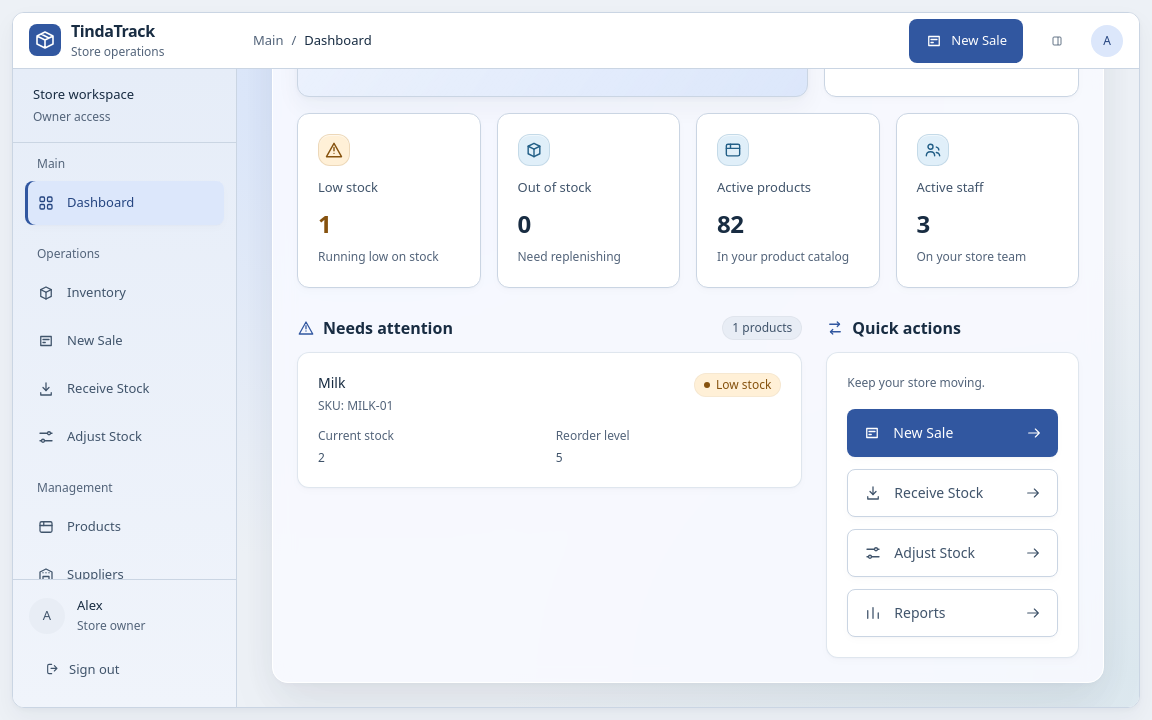
Test: preserves dashboard data and quick-action access for OWNER
(page scrolled)
Expected: the element "Active products" shows "82", [717,207,743,240]
What coordinates should you click on to do the following:
click the button with aria-label "View stock details for Milk"
I would click on:
 (370, 406)
Its box is [298,353,801,487].
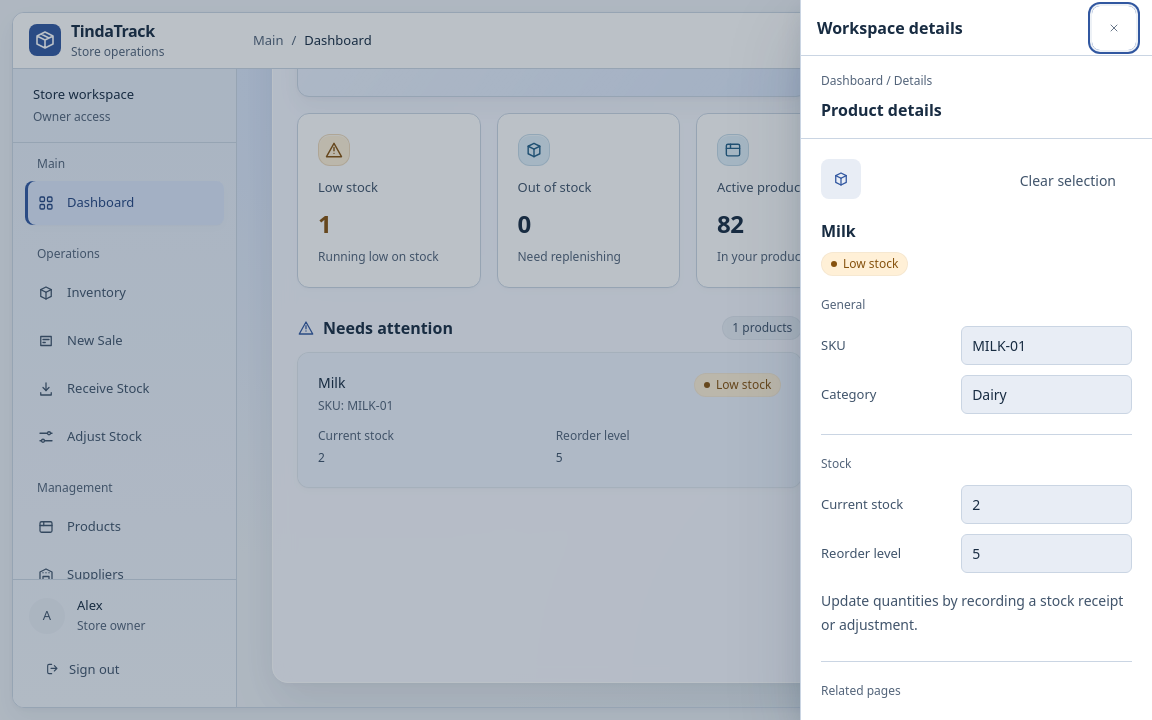
Now the heading "Milk" is shown, box [821,220,856,242]
